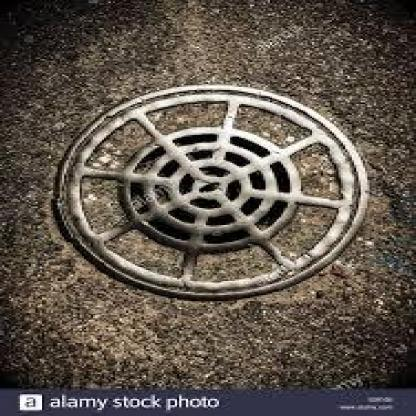manholes: (22, 56, 416, 360)
